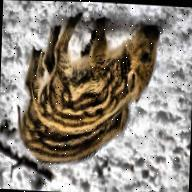boar: (37, 14, 165, 132), (20, 50, 136, 176)
